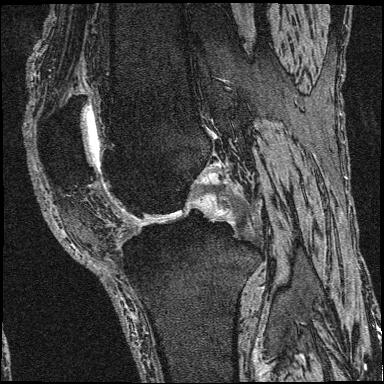SagKneeJointArea: (35, 93, 267, 273)
